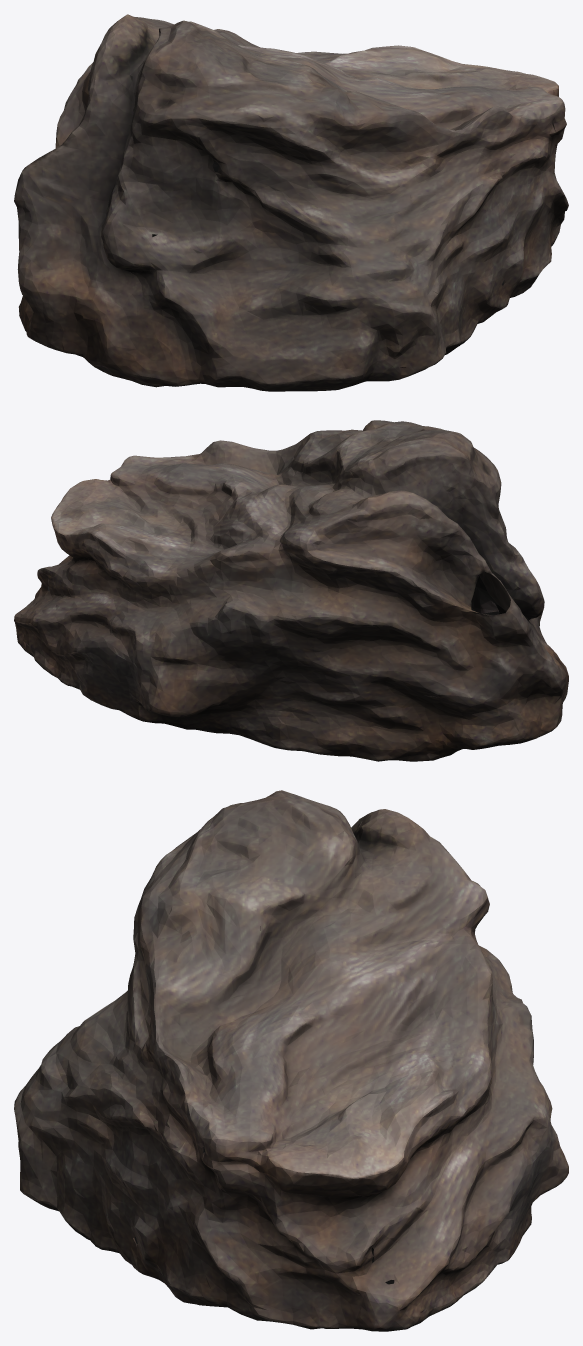
3 views of the same model, one above another, from view 1: azimuth 30°, elevation 25°; view 2: azimuth 150°, elevation 25°; view 3: azimuth 270°, elevation 25° (orthographic). The views are drawn at different scales.
Visible parts, largest first — view 1: world; view 2: world; view 3: world.
Part boxes in pixels (box(x1,y1,x2,y2)): world: box(14, 14, 568, 391); world: box(14, 420, 568, 761); world: box(14, 790, 568, 1331).
Size of the model in its own units: 1.5 by 0.7994 by 1.15.
1 material, 1 textured.
